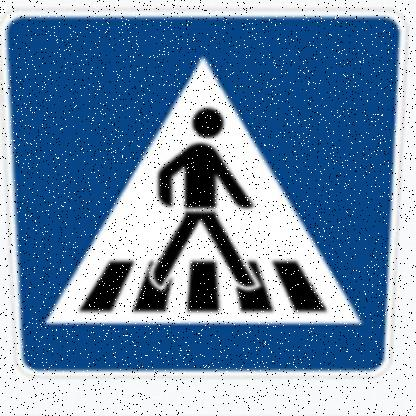Pedestrian Crossing: (1, 1, 404, 385)
